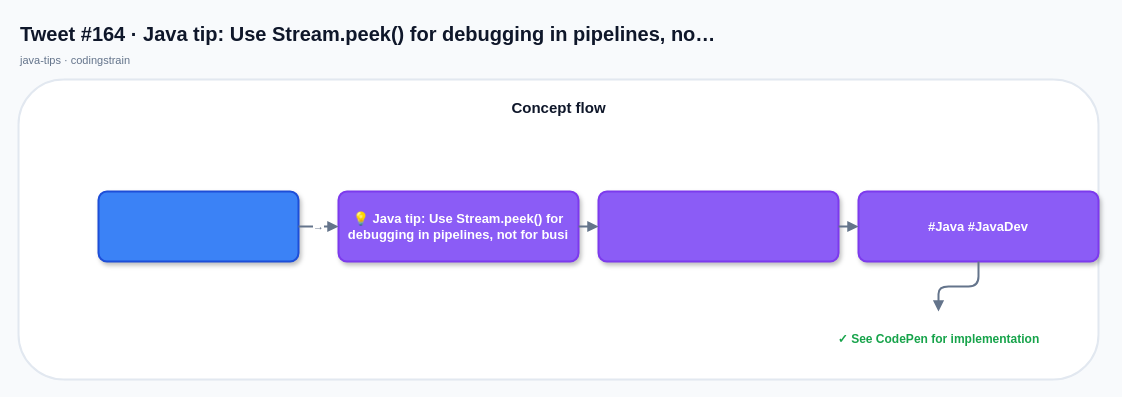
Some shapes in this 1122 by 397 pixel diagram are drawn without their labels. Each missing label, with the centre of its shape:
Problem / context: the point at 199,227
Stream.peek() lets you perform logging or inspection on each element a: the point at 719,227
